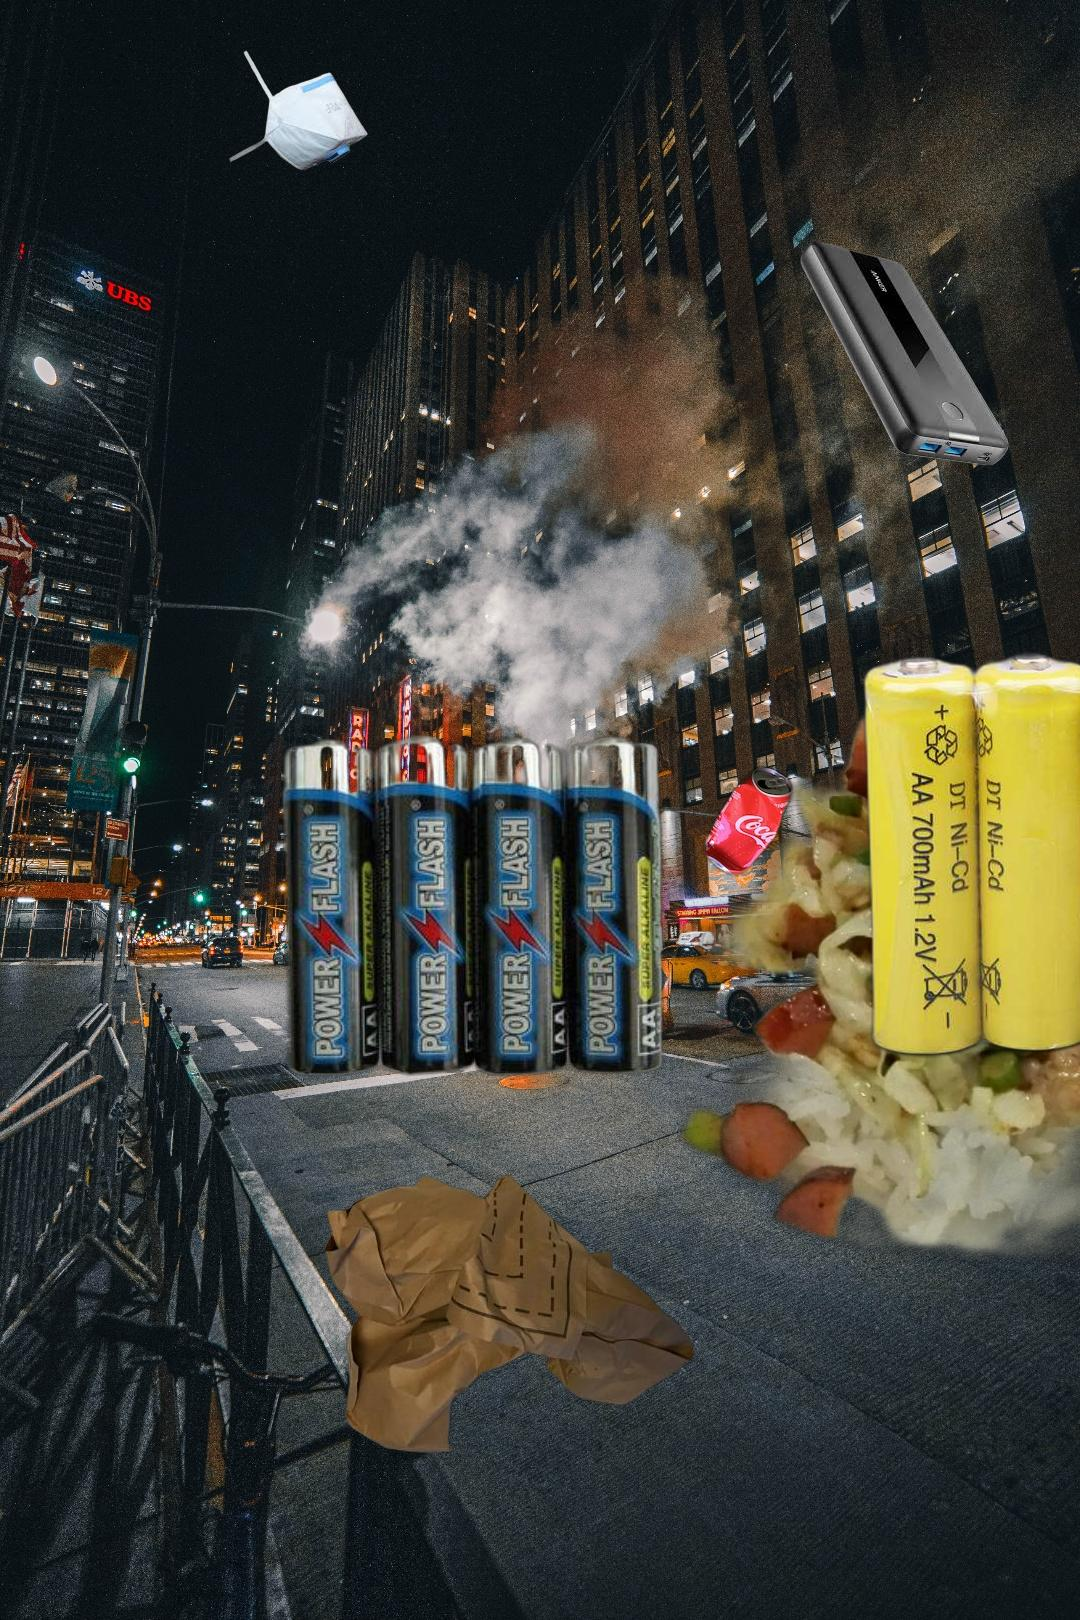battery: (277, 730, 668, 1080), (856, 644, 1080, 1063), (797, 241, 1017, 466)
biological: (435, 460, 1080, 1270)
metal-cans: (700, 761, 798, 881)
paper: (321, 1172, 699, 1454)
trash: (225, 48, 370, 174)
